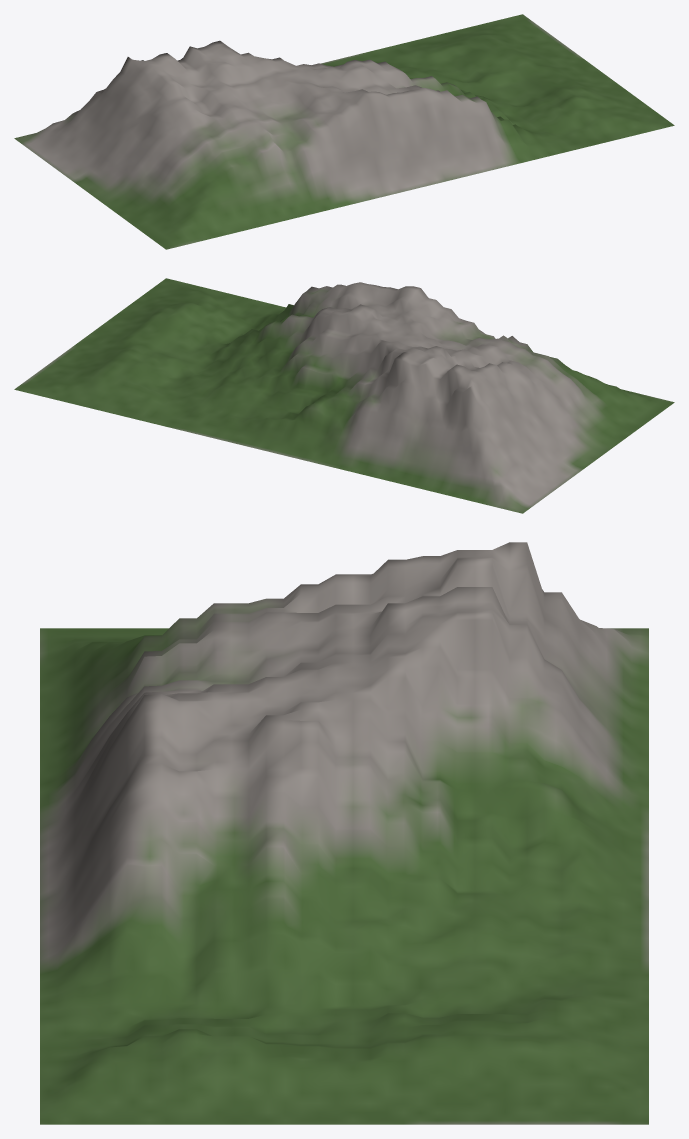
Rendered from montserrat.glb.
The picture shows the model from 3 angles, top to bottom: view 1: azimuth 30°, elevation 25°; view 2: azimuth 150°, elevation 25°; view 3: azimuth 270°, elevation 25°; orthographic projection. The views are drawn at different scales.
Parts seen in each view (by area): view 1: terrain; view 2: terrain; view 3: terrain.
Boxes of the visible parts, x1=… form: terrain: x1=14, y1=14, x2=674, y2=249; terrain: x1=14, y1=278, x2=674, y2=513; terrain: x1=40, y1=542, x2=648, y2=1124.
Bounding box in the file's own units: 6660 × 1093 × 3451.
1 material, 1 textured.
